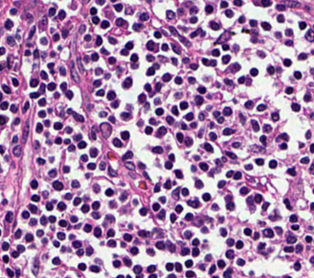nucleus: (71, 62, 79, 82), (100, 123, 111, 137), (178, 35, 190, 45), (72, 112, 83, 121), (169, 26, 178, 36), (146, 40, 155, 50), (22, 124, 27, 142), (122, 151, 132, 160), (123, 77, 131, 88), (28, 26, 35, 38), (77, 58, 83, 72), (251, 119, 258, 131), (231, 63, 240, 72), (4, 19, 12, 29), (195, 95, 203, 105), (158, 126, 166, 136), (223, 128, 234, 135), (166, 10, 174, 19), (261, 22, 270, 30), (1, 85, 10, 93), (107, 91, 115, 100), (113, 138, 121, 147), (204, 143, 212, 152), (125, 162, 134, 170), (199, 162, 208, 170), (108, 167, 116, 176), (120, 112, 130, 119), (13, 146, 20, 156), (152, 146, 162, 153), (226, 151, 236, 158), (23, 101, 29, 112), (101, 20, 109, 28), (172, 45, 180, 53), (222, 55, 230, 63), (146, 67, 154, 75), (162, 73, 170, 81), (30, 79, 38, 87), (47, 82, 55, 90), (245, 100, 253, 108), (223, 107, 231, 115), (263, 124, 271, 132), (121, 131, 129, 139), (58, 10, 65, 19), (116, 18, 125, 25), (210, 22, 219, 29), (133, 23, 142, 30), (138, 93, 145, 102), (271, 112, 278, 121), (184, 113, 193, 120), (185, 137, 192, 146), (90, 148, 97, 157), (261, 0, 271, 6), (47, 63, 53, 73), (239, 113, 245, 123), (176, 132, 182, 142), (205, 5, 212, 13), (190, 6, 197, 14), (225, 9, 232, 17), (140, 13, 148, 20), (7, 37, 14, 45), (125, 42, 133, 49), (201, 58, 209, 65), (267, 66, 274, 74), (250, 68, 257, 76), (40, 71, 47, 79), (96, 89, 104, 96), (180, 101, 187, 109), (155, 108, 163, 115), (166, 116, 173, 124), (89, 131, 96, 139), (209, 132, 216, 140), (78, 141, 86, 148), (255, 158, 263, 165), (269, 160, 276, 168), (165, 161, 172, 169), (49, 169, 56, 177), (175, 170, 182, 178), (233, 172, 241, 179), (276, 4, 285, 10), (30, 92, 39, 98), (172, 106, 178, 115), (0, 115, 6, 124), (36, 123, 42, 132), (115, 4, 122, 11), (277, 15, 284, 22), (190, 16, 197, 23), (40, 37, 47, 44), (212, 49, 219, 56), (91, 53, 98, 60), (95, 68, 102, 75), (175, 76, 182, 83), (238, 76, 245, 83), (198, 86, 205, 93), (38, 98, 45, 105), (54, 122, 61, 129), (226, 170, 233, 177), (49, 7, 55, 15), (190, 31, 198, 37), (53, 33, 59, 41), (108, 37, 116, 43), (257, 51, 265, 57), (131, 54, 137, 62), (146, 55, 154, 61), (171, 57, 177, 65), (224, 78, 232, 84), (60, 82, 66, 90), (66, 90, 72, 98), (257, 104, 265, 110), (87, 163, 95, 169), (233, 0, 242, 5), (96, 36, 101, 45), (33, 49, 38, 58), (40, 83, 45, 92), (260, 135, 265, 144), (220, 1, 227, 7), (90, 7, 96, 14), (92, 16, 98, 23), (249, 20, 256, 26), (79, 25, 85, 32), (154, 31, 160, 38), (161, 44, 168, 50), (101, 48, 108, 54), (108, 57, 115, 63), (190, 63, 197, 69), (188, 77, 195, 83), (12, 78, 18, 85), (93, 80, 100, 86), (155, 83, 161, 90), (144, 84, 150, 91), (111, 101, 118, 107), (1, 102, 7, 109), (10, 105, 16, 112), (38, 111, 45, 117), (149, 118, 156, 124), (65, 127, 72, 133), (145, 127, 152, 133), (74, 134, 81, 140), (55, 137, 61, 144), (81, 154, 87, 161), (37, 158, 44, 164), (99, 162, 105, 169), (138, 162, 145, 168), (245, 164, 252, 170), (143, 172, 149, 179), (62, 29, 67, 37), (60, 67, 65, 75), (10, 8, 16, 14), (238, 16, 244, 22), (275, 32, 281, 38), (84, 35, 90, 41), (222, 44, 228, 50), (121, 49, 127, 55), (24, 50, 30, 56), (210, 60, 216, 66), (175, 92, 181, 98), (154, 98, 160, 104), (213, 111, 219, 117), (109, 116, 115, 122), (217, 117, 223, 123), (13, 118, 19, 124), (198, 128, 202, 137), (68, 145, 74, 151), (215, 159, 221, 165), (63, 166, 69, 172), (233, 44, 238, 51), (0, 47, 5, 54), (182, 58, 189, 63), (131, 63, 138, 68), (99, 111, 106, 116), (199, 113, 204, 120), (181, 122, 186, 129), (12, 135, 17, 142), (232, 142, 239, 147), (169, 154, 174, 161), (126, 8, 132, 13), (251, 30, 257, 35), (251, 37, 257, 42), (153, 63, 159, 68), (275, 67, 281, 72), (54, 92, 59, 98), (144, 103, 149, 109), (44, 120, 49, 126), (137, 120, 142, 126), (190, 122, 196, 127), (64, 139, 70, 144), (193, 155, 199, 160), (191, 165, 196, 171), (67, 108, 72, 113), (96, 1, 104, 4), (84, 55, 88, 61), (34, 141, 38, 147), (0, 146, 3, 154), (242, 29, 249, 32), (105, 74, 110, 78), (209, 122, 213, 127), (221, 157, 226, 161), (49, 157, 53, 161), (201, 31, 204, 36), (16, 34, 19, 39), (51, 51, 54, 56)
